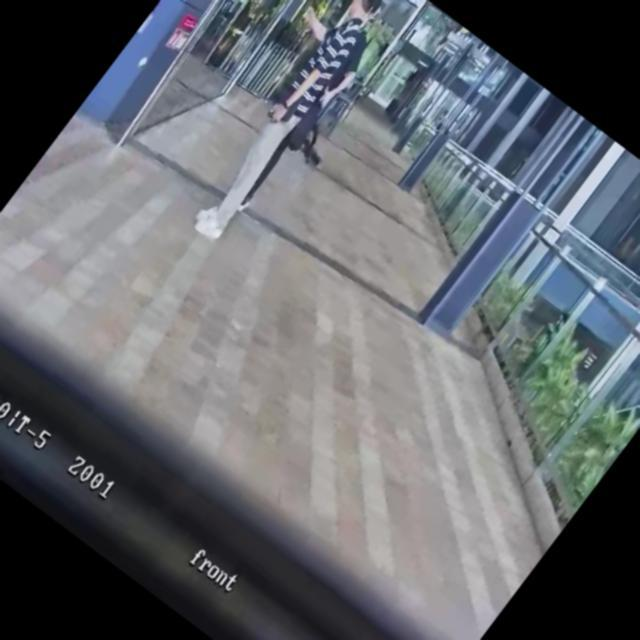person: (160, 0, 403, 244), (223, 0, 400, 221)
